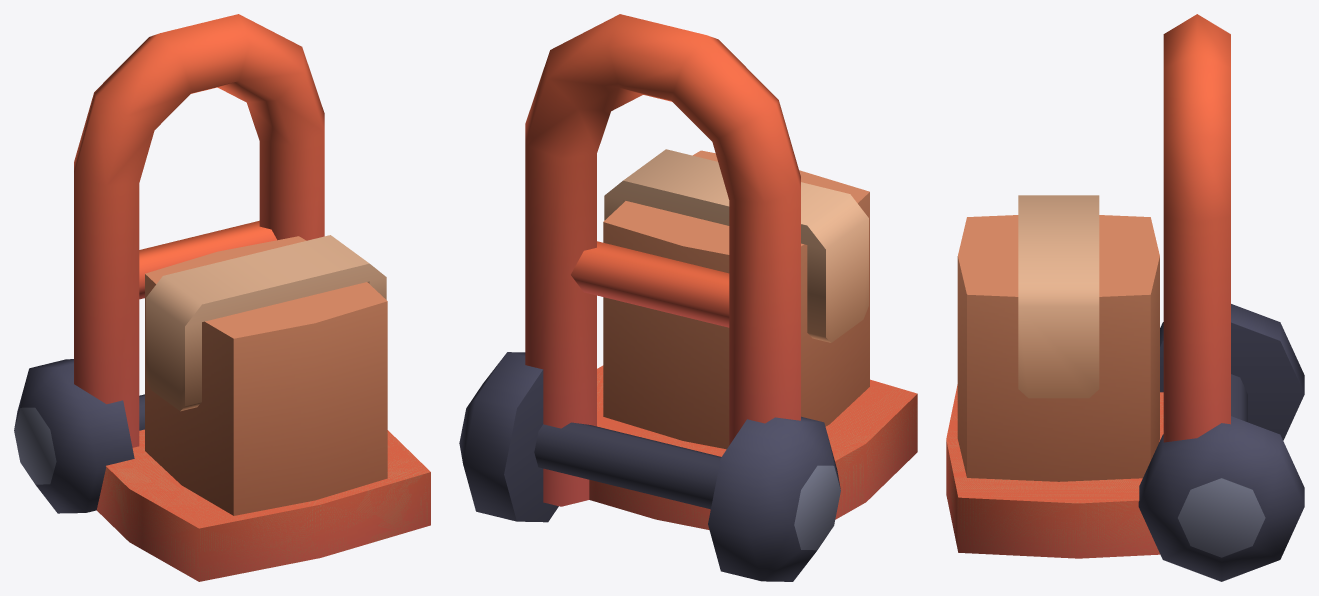
Rendered from hand-truck.obj.
3 renders of one model, left to right at view 1: azimuth 30°, elevation 25°; view 2: azimuth 150°, elevation 25°; view 3: azimuth 270°, elevation 25°, orthographic. The views are drawn at different scales.
Visible parts, largest first — view 1: hand-truck, box; view 2: hand-truck, box; view 3: hand-truck, box.
Part boxes in pixels (<box>): hand-truck: <box>14,14,430,581</box>; box: <box>145,235,387,515</box>; hand-truck: <box>459,14,917,581</box>; box: <box>603,149,869,449</box>; hand-truck: <box>946,14,1304,581</box>; box: <box>957,195,1159,481</box>.
Bounding box in the file's own units: 0.3733 × 0.5466 × 0.368.
1 material, 1 textured.
